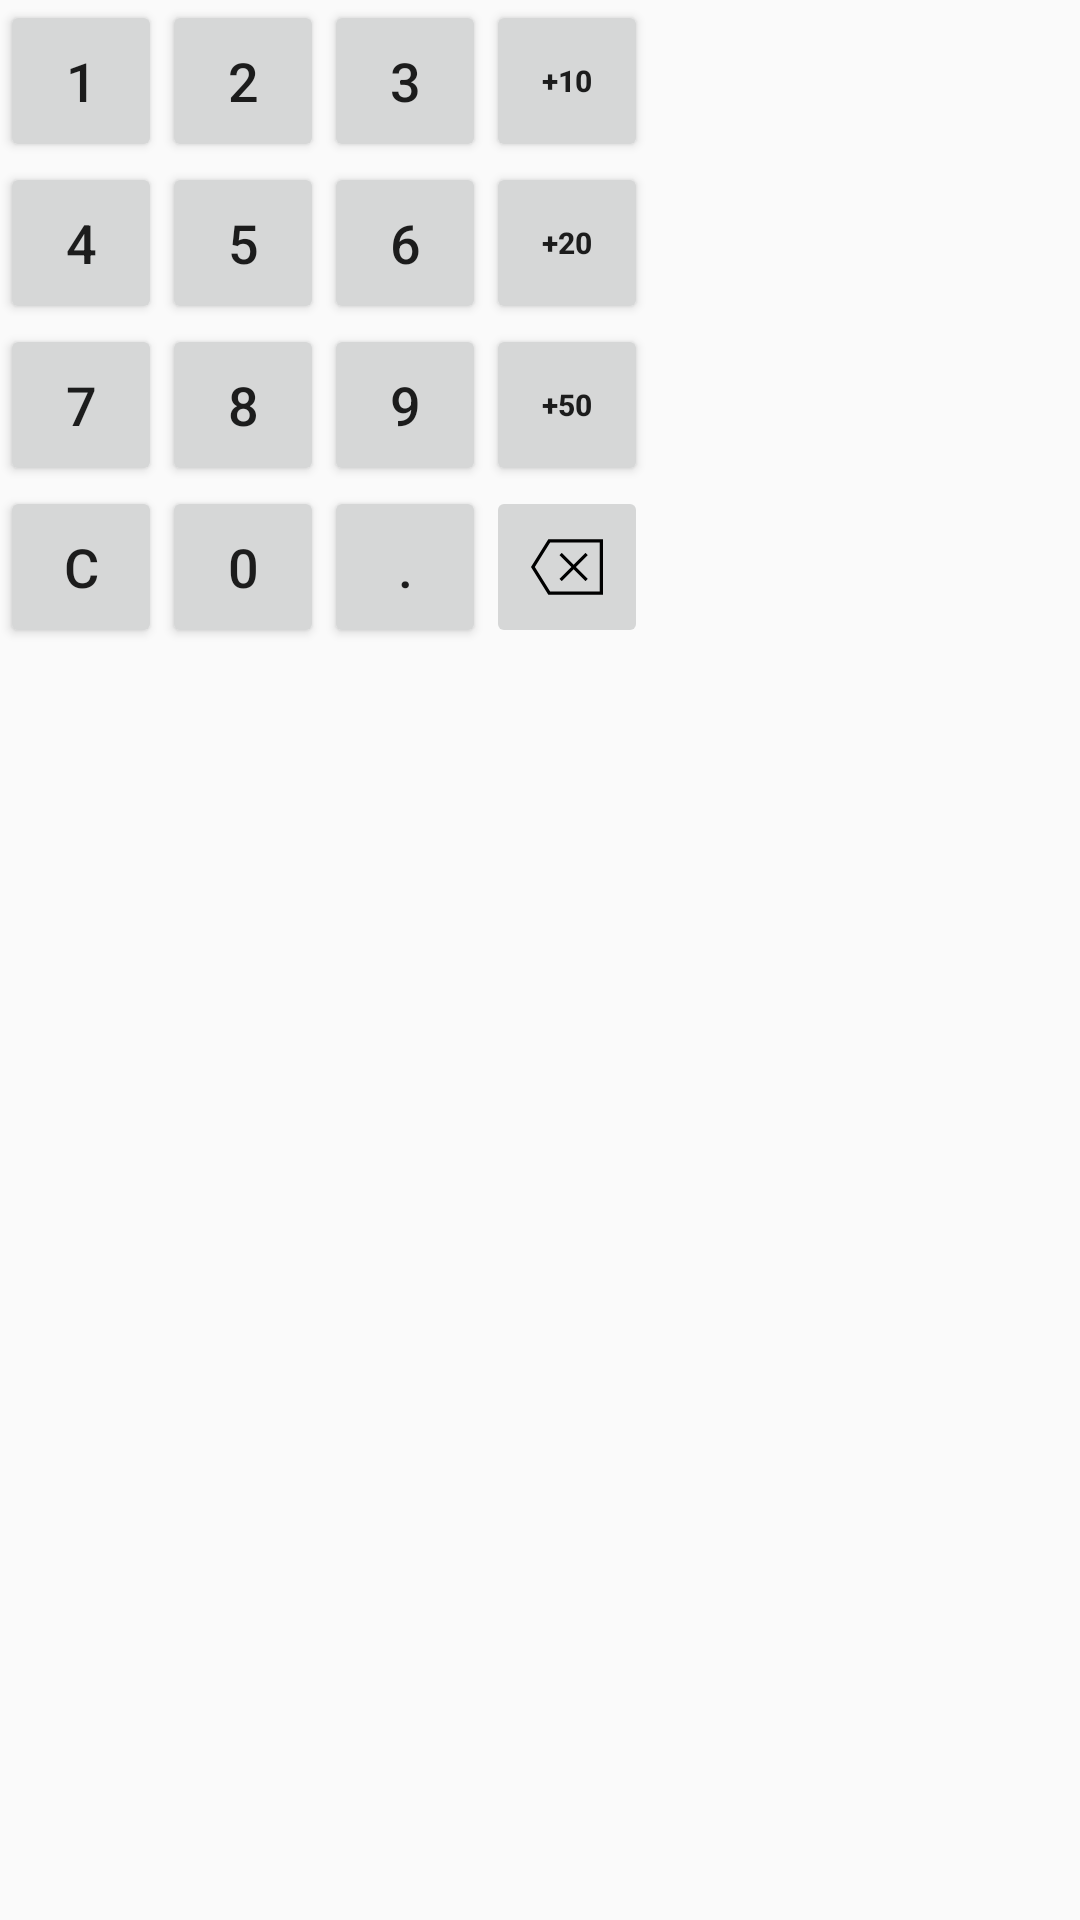

Icons on this 1080×1920 Android screen, each with its box as {"x1": x1, "y1": y1, "x2": x2, "y2": y2}:
backspace: {"x1": 498, "y1": 504, "x2": 636, "y2": 630}
